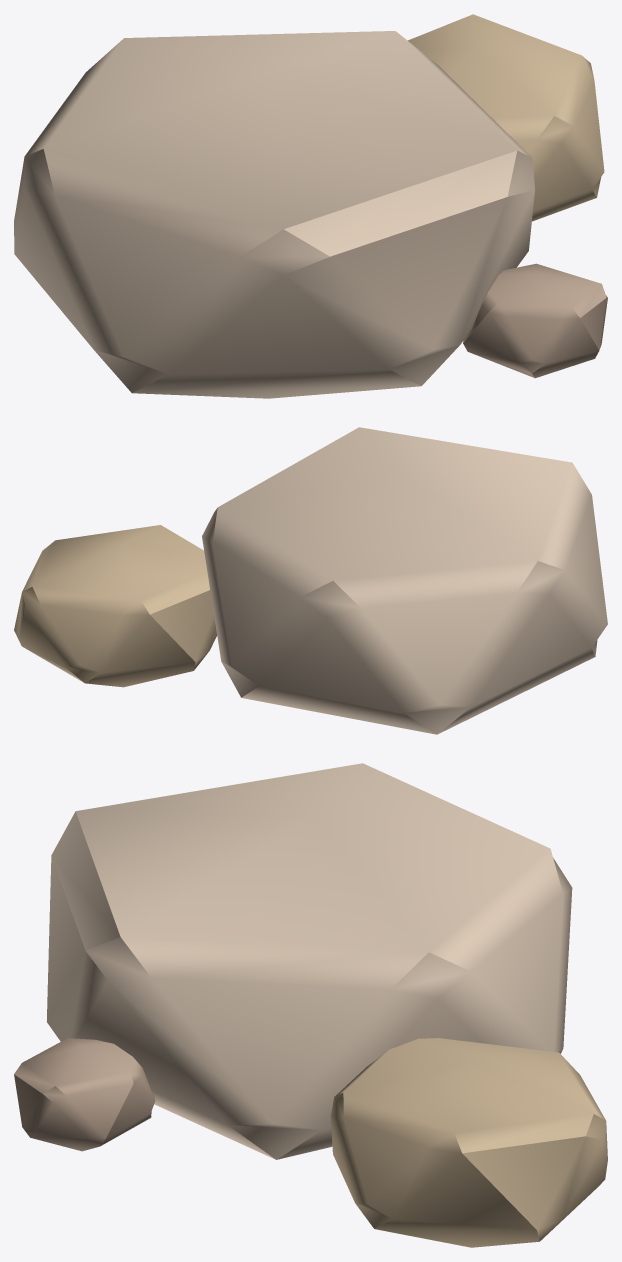
The model's file is prop_rock_cluster.glb.
3 renders of one model, top to bottom at view 1: azimuth 30°, elevation 25°; view 2: azimuth 150°, elevation 25°; view 3: azimuth 270°, elevation 25°, orthographic. The views are drawn at different scales.
Visible parts, largest first — view 1: rkc_a, rkc_b, rkc_c; view 2: rkc_a, rkc_b; view 3: rkc_a, rkc_b, rkc_c.
Part boxes in pixels (bbox=[...]): rkc_a: bbox=[14, 31, 534, 398]; rkc_b: bbox=[408, 14, 604, 221]; rkc_c: bbox=[463, 263, 607, 378]; rkc_a: bbox=[202, 427, 607, 734]; rkc_b: bbox=[14, 525, 216, 687]; rkc_a: bbox=[46, 763, 572, 1159]; rkc_b: bbox=[330, 1038, 607, 1247]; rkc_c: bbox=[14, 1038, 155, 1151].
Bounding box in the file's own units: 0.7328 × 0.3729 × 0.6104.
